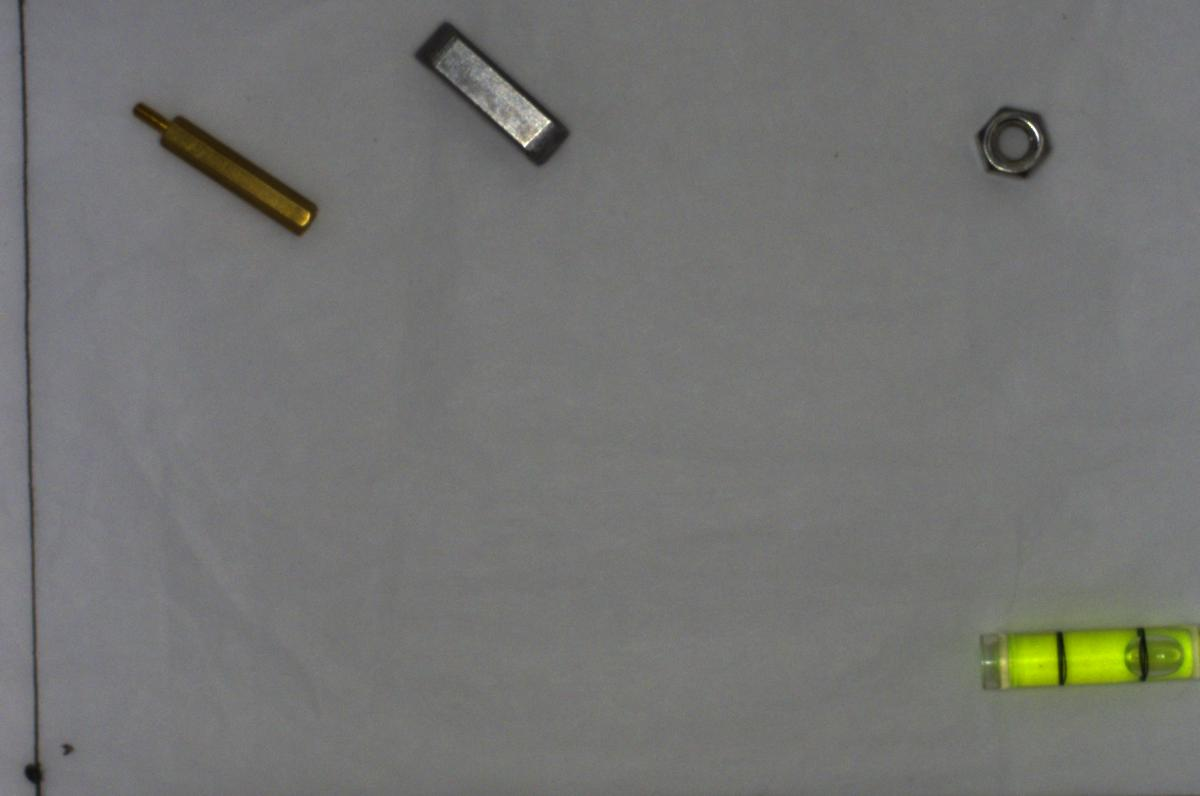Hexagon nut: (961, 99, 1055, 192)
Hexagon pillar: (121, 94, 327, 243)
Horizontal bubble: (964, 612, 1199, 695)
Keybar: (407, 14, 581, 170)
